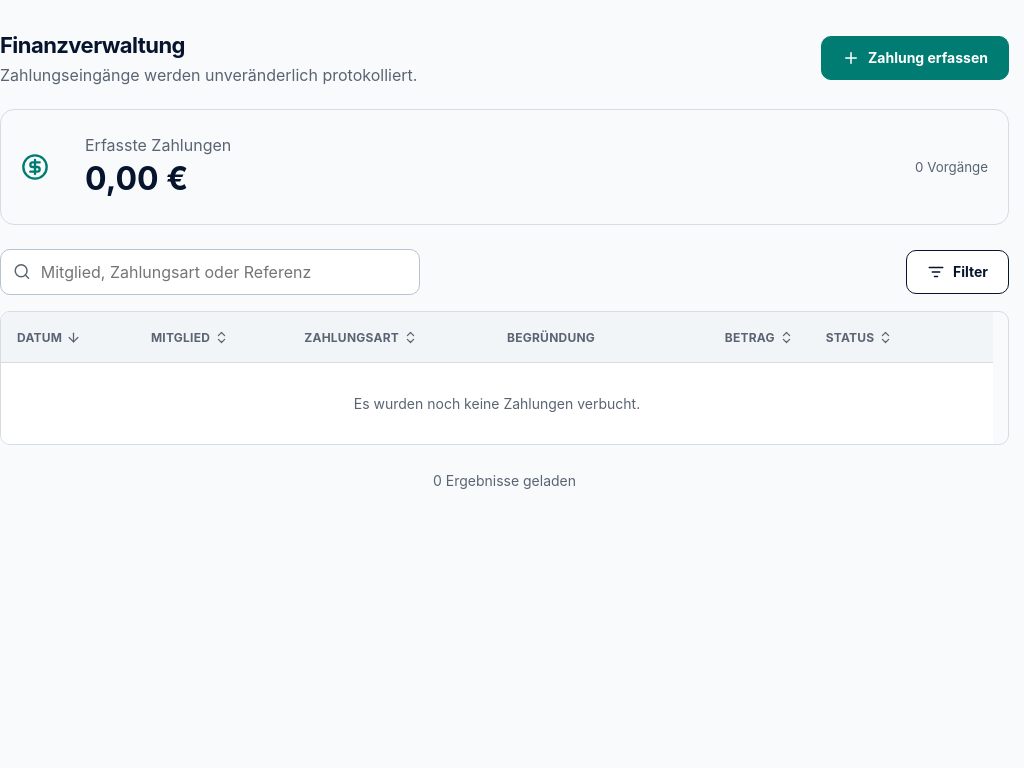
PaymentsPanel › marks the amount as required while keeping the optional reference unmarked
Click the button "Zahlung erfassen". click: click(915, 58)
box: 821,36 -> 1009,80
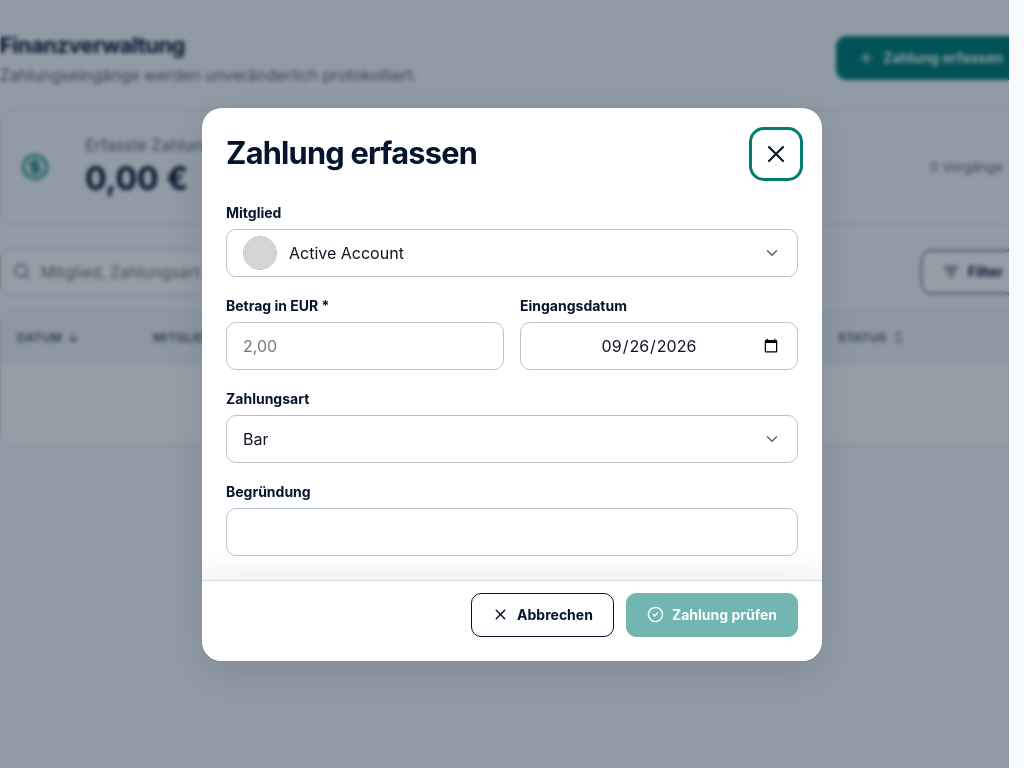
expect the dropdown named "Zahlungsart" reads "Bar": met, box 226,414 -> 798,462
